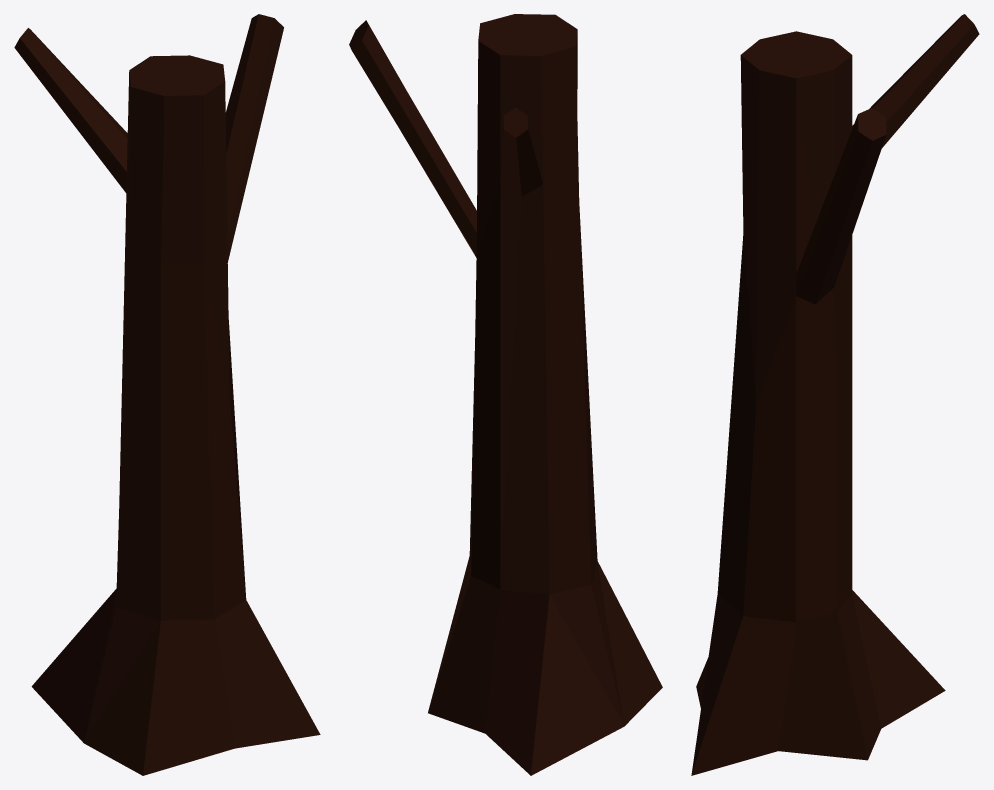
The model's file is Tree2.obj.
3 renders of one model, left to right at view 1: azimuth 30°, elevation 25°; view 2: azimuth 150°, elevation 25°; view 3: azimuth 270°, elevation 25°, orthographic. The views are drawn at different scales.
Parts seen in each view (by area): view 1: Cube.001; view 2: Cube.001; view 3: Cube.001.
Part boxes in pixels (<box>): Cube.001: <box>14,14,320,775</box>; Cube.001: <box>349,14,662,775</box>; Cube.001: <box>691,14,979,775</box>.
Bounding box in the file's own units: 1.87 × 5.06 × 1.94.
